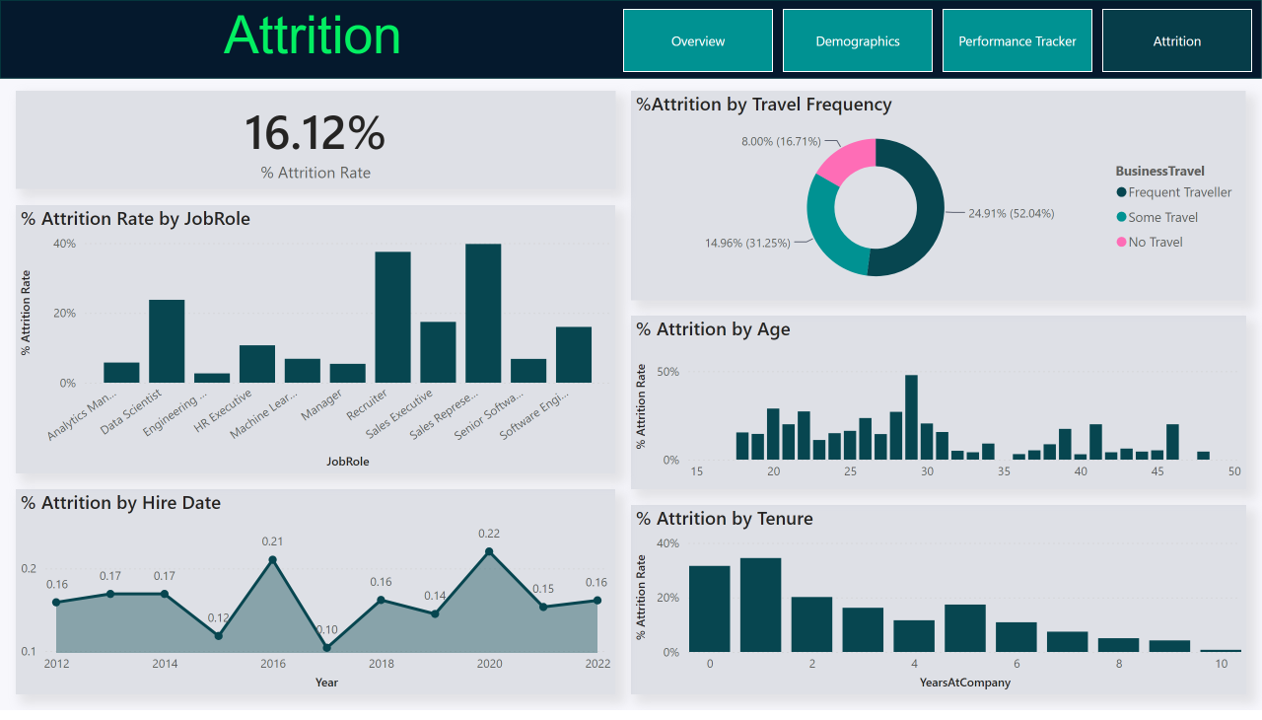

The dashboard page shown, as its layout file describes it:
{"tool":"powerbi","page":{"name":"Attrition","canvas":[1280,720],"ordinal":3},"visuals":[{"type":"card","fields":{"Values":["DimDate.% Attrition Rate"]},"box":[16,92,608.6,99.4],"z":0},{"type":"columnChart","fields":{"Category":["DimEmployee.Department","DimEmployee.JobRole"],"Y":["DimDate.% Attrition Rate"]},"box":[16,208,608,272],"z":1000},{"type":"lineChart","title":"% Attrition by Hire Date","fields":{"Category":["DimDate.Date.Variation.Date Hierarchy.Year","DimDate.Date.Variation.Date Hierarchy.Quarter","DimDate.Date.Variation.Date Hierarchy.Month","DimDate.Date.Variation.Date Hierarchy.Day"],"Y":["DimDate.% Attrition Rate Date"]},"box":[16,496,608,208],"z":2000},{"type":"donutChart","title":"%Attrition by Travel Frequency","fields":{"Category":["DimEmployee.BusinessTravel"],"Y":["DimDate.% Attrition Rate"]},"box":[640.5,92,623.3,212.3],"z":3000},{"type":"clusteredColumnChart","title":"% Attrition by Age","fields":{"Category":["DimEmployee.Age"],"Y":["DimDate.% Attrition Rate"]},"box":[640,320,624,176],"z":4000},{"type":"columnChart","title":"% Attrition by Tenure","fields":{"Category":["DimEmployee.YearsAtCompany"],"Y":["DimDate.% Attrition Rate"]},"box":[640,512,624,192],"z":5000},{"type":"shape","box":[0,0,1279.8,79.8],"z":6000},{"type":"textbox","box":[0,0,624.5,79.8],"z":7000},{"type":"pageNavigator","box":[631.9,8.6,640,64],"z":8000}]}

Visuals, with their boxes in screenshot pixels (x1, y1, x2, y2), scaled from the page's 1280x720 canvas onto the 1262x720 screenshot:
card - DimDate.% Attrition Rate: rect(16, 92, 616, 191)
columnChart - DimEmployee.Department x DimEmployee.JobRole: rect(16, 208, 615, 480)
"% Attrition by Hire Date" lineChart: rect(16, 496, 615, 704)
"%Attrition by Travel Frequency" donutChart: rect(631, 92, 1246, 304)
"% Attrition by Age" clusteredColumnChart: rect(631, 320, 1246, 496)
"% Attrition by Tenure" columnChart: rect(631, 512, 1246, 704)
shape: rect(0, 0, 1261, 80)
textbox: rect(0, 0, 616, 80)
pageNavigator: rect(623, 9, 1254, 73)
